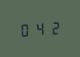four: (33, 20, 46, 36)
two: (47, 19, 60, 35)
zero: (18, 21, 31, 37)
